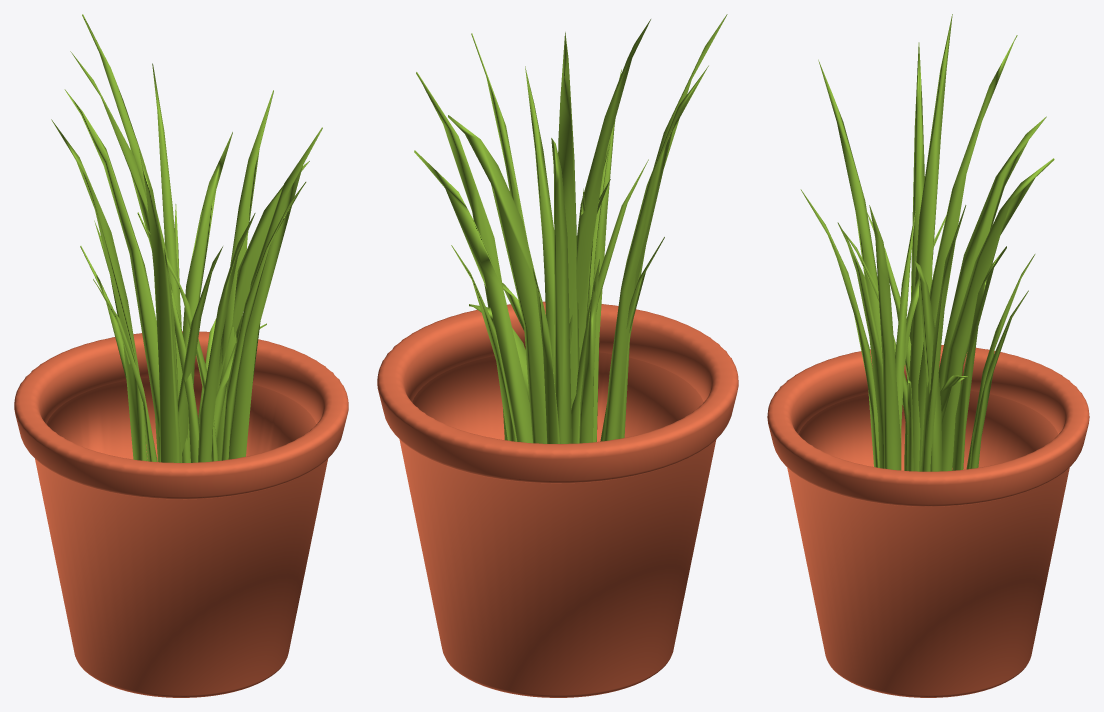
Rendered from Pot with grass.fbx.
3 renders of one model, left to right at view 1: azimuth 30°, elevation 25°; view 2: azimuth 150°, elevation 25°; view 3: azimuth 270°, elevation 25°, orthographic. The views are drawn at different scales.
Visible parts, largest first — view 1: Circle.001, NurbsPath.003; view 2: Circle.001, NurbsPath.003; view 3: Circle.001, NurbsPath.003.
Part boxes in pixels (x1,y1,x2,y2): Circle.001: [14, 331, 348, 697]; NurbsPath.003: [51, 14, 322, 462]; Circle.001: [377, 301, 738, 697]; NurbsPath.003: [414, 14, 727, 443]; Circle.001: [767, 345, 1089, 697]; NurbsPath.003: [800, 14, 1054, 471].
Bounding box in the file's own units: 243 × 497 × 243.
